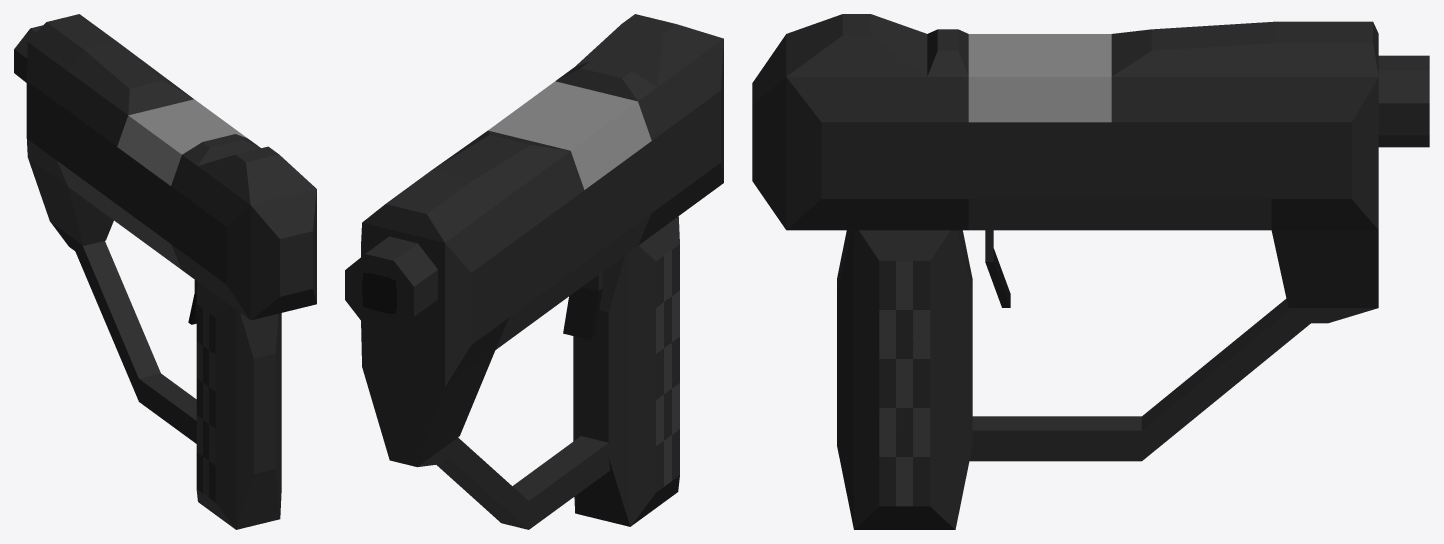
3 views of the same model, side by side, from view 1: azimuth 30°, elevation 25°; view 2: azimuth 150°, elevation 25°; view 3: azimuth 270°, elevation 25° (orthographic). The views are drawn at different scales.
Visible parts, largest first — view 1: cuboid (×3), cylinder; view 2: cuboid (×4), cylinder; view 3: cuboid (×4), cylinder.
Part boxes in pixels (x1,y1,x2,y2): cuboid (×3): [26, 14, 316, 529]; cylinder: [14, 25, 43, 82]; cuboid (×4): [361, 14, 723, 529]; cylinder: [345, 236, 437, 332]; cuboid (×4): [752, 14, 1378, 529]; cylinder: [1378, 55, 1429, 147].
Bounding box in the file's own units: 0.05 × 0.2 × 0.25.
Materials: 1 (1 with a texture image).
